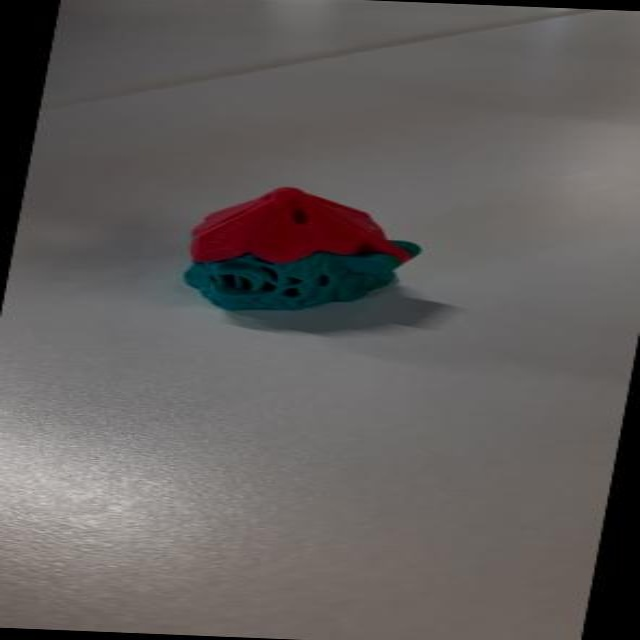House: (169, 181, 434, 323)
